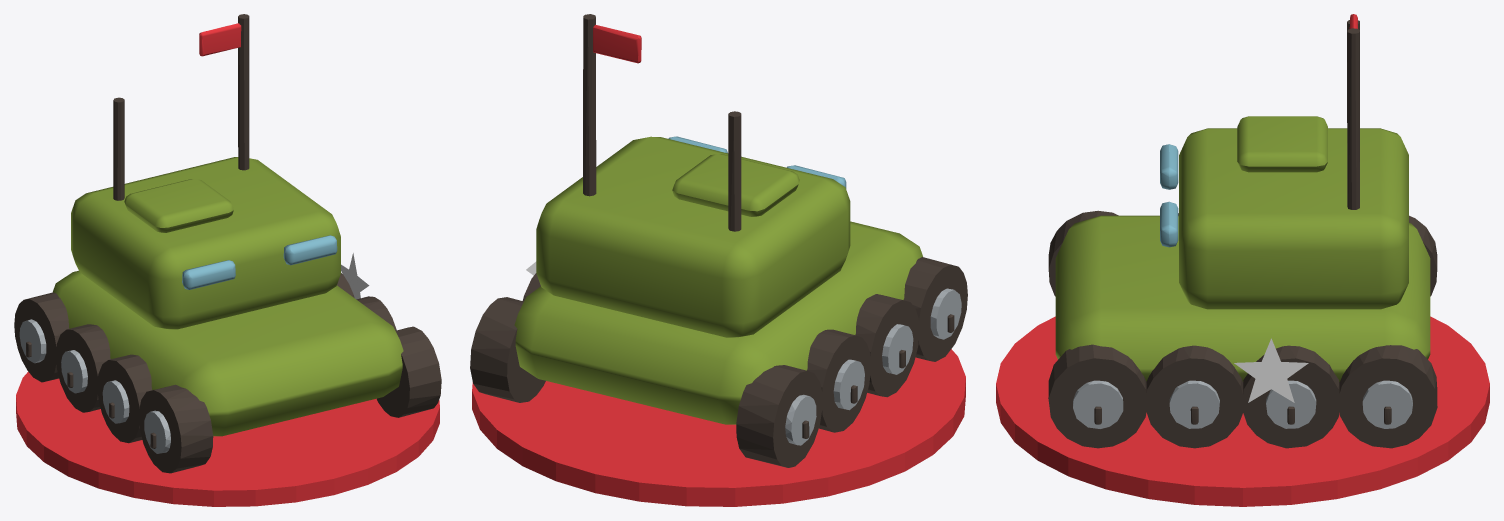
File: usa_commander_lod0.glb
3 views of the same model, side by side, from view 1: azimuth 30°, elevation 25°; view 2: azimuth 150°, elevation 25°; view 3: azimuth 270°, elevation 25° (orthographic). The views are drawn at different scales.
Visible parts, largest first — view 1: body_hull, base_pedestal; view 2: body_hull, base_pedestal; view 3: body_hull, base_pedestal.
Boxes of the visible parts, bbox=[...] form: body_hull: bbox=[14, 14, 441, 473]; base_pedestal: bbox=[16, 371, 439, 506]; body_hull: bbox=[470, 14, 967, 467]; base_pedestal: bbox=[472, 349, 965, 506]; body_hull: bbox=[1048, 14, 1437, 448]; base_pedestal: bbox=[996, 316, 1489, 506].
Bounding box in the file's own units: 0.78 × 0.7101 × 0.78.
